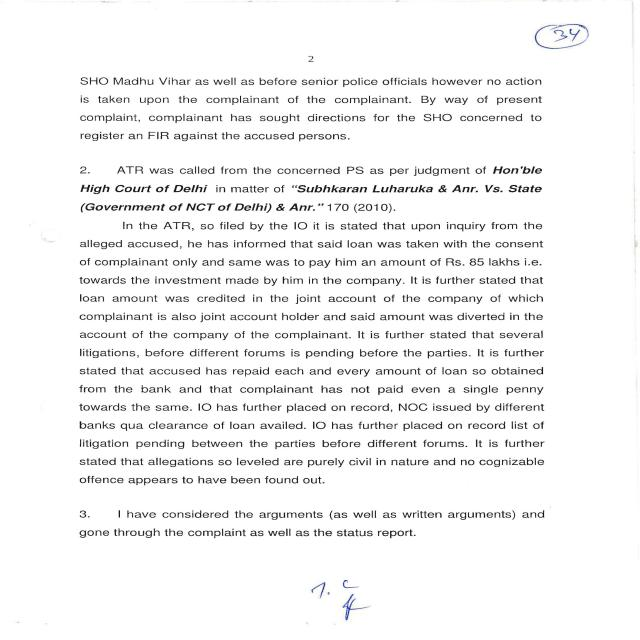page-number: (489, 0, 639, 77)
